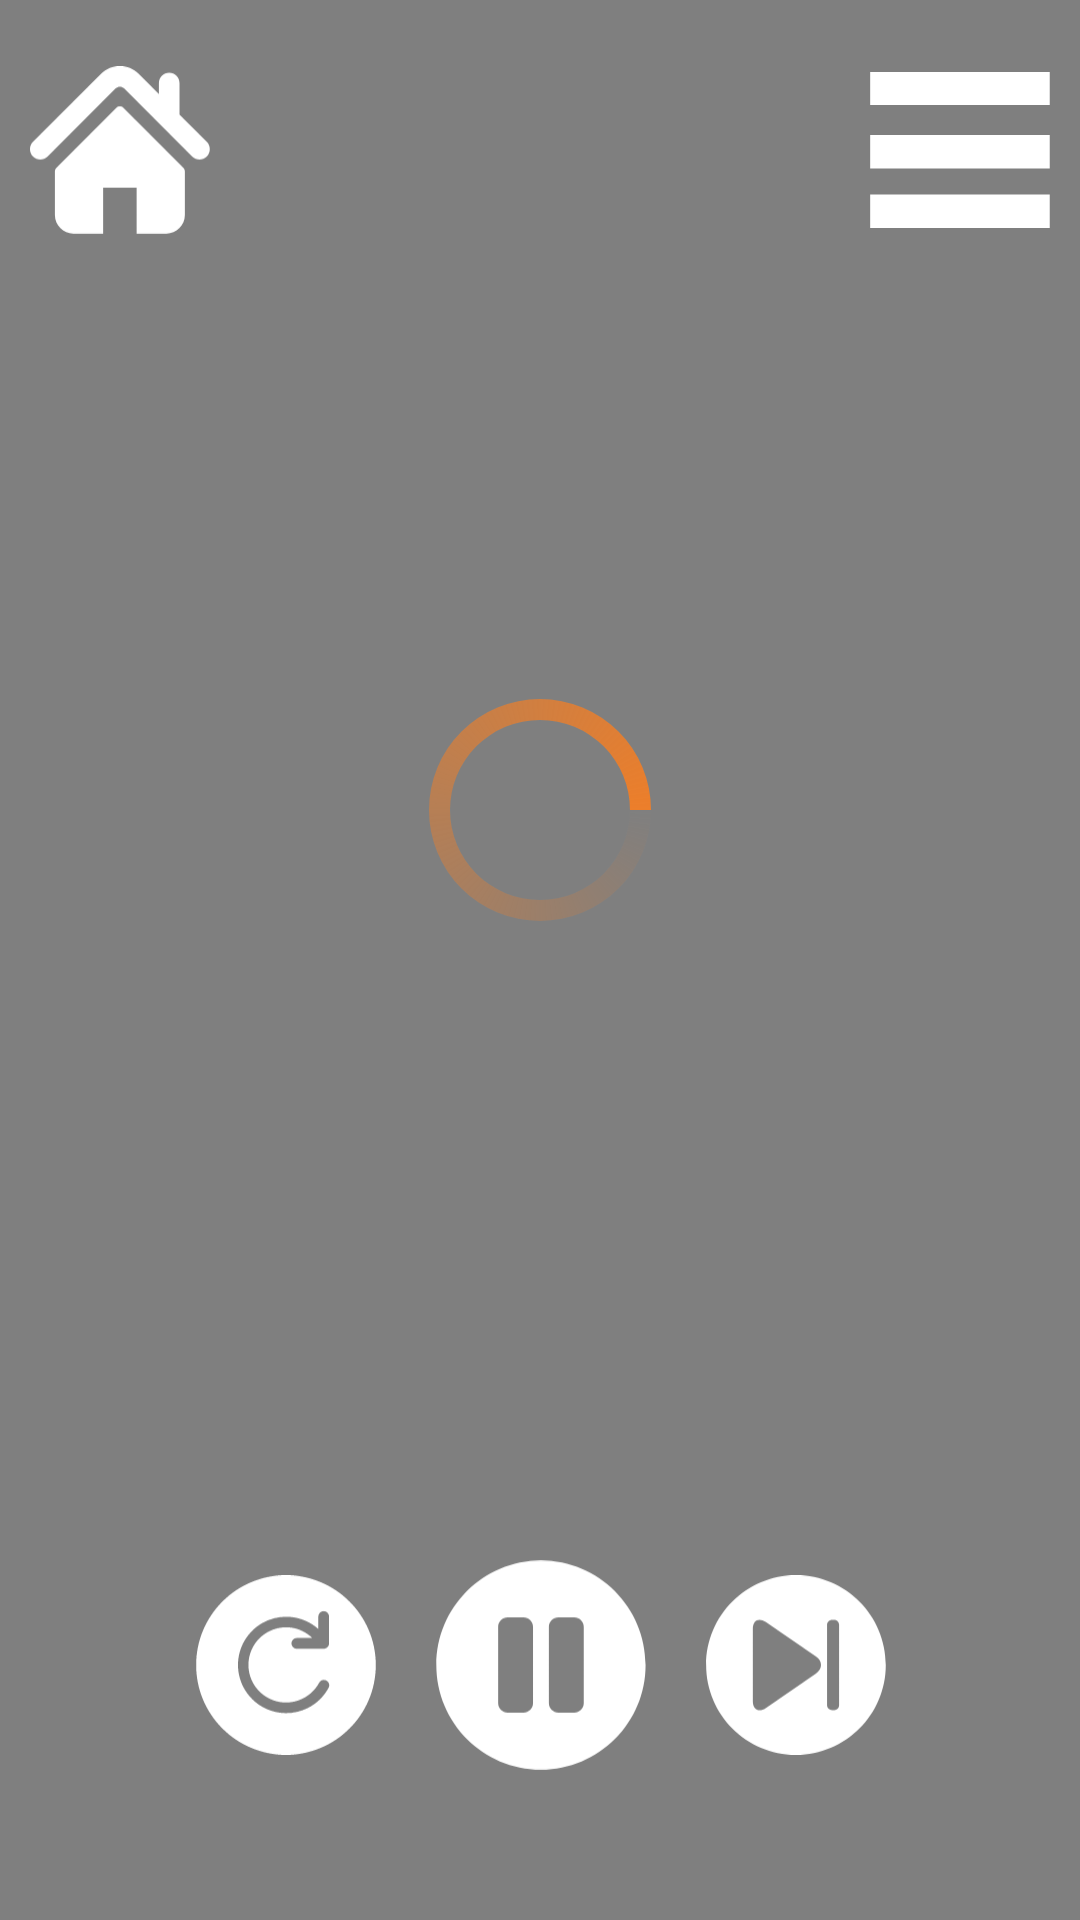

Named icons in this screenshot (1080w x 1920h) and their bounding boxes, box=[x1, y1, x2, y2]:
menu: box=[870, 72, 1050, 228]
next: box=[706, 1575, 886, 1755]
pause: box=[436, 1560, 646, 1770]
repeat: box=[196, 1575, 376, 1755]
